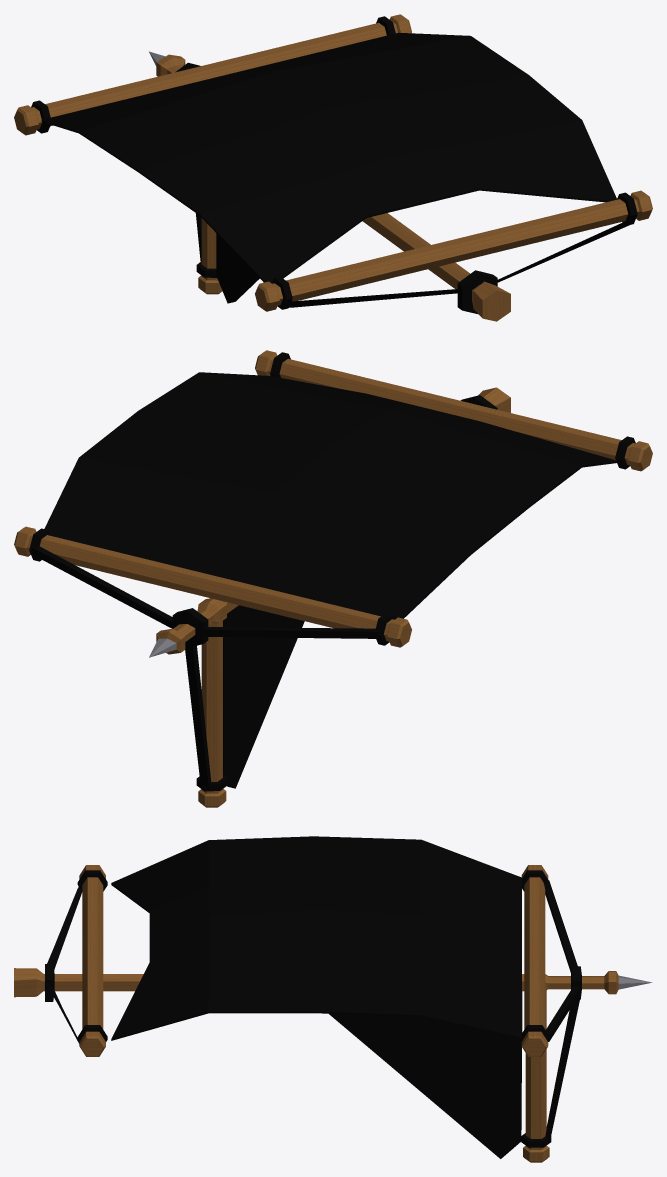
File: sail_c_4.fbx
3 renders of one model, top to bottom at view 1: azimuth 30°, elevation 25°; view 2: azimuth 150°, elevation 25°; view 3: azimuth 270°, elevation 25°, orthographic. The views are drawn at different scales.
Parts seen in each view (by area): view 1: Cube.104; view 2: Cube.104; view 3: Cube.104.
Boxes of the visible parts, x1,y1,x2,y2 form: Cube.104: (14, 14, 652, 321); Cube.104: (14, 350, 652, 807); Cube.104: (14, 836, 652, 1162).
Bounding box in the file's own units: 140 × 92.62 × 215.
